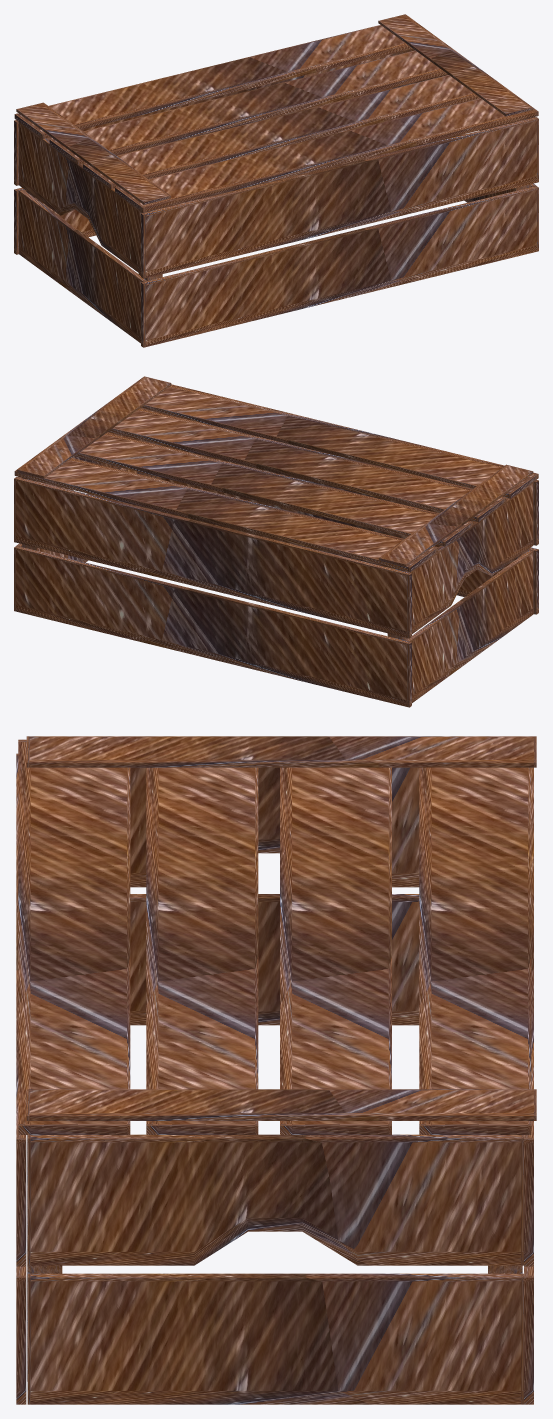
3 views of the same model, one above another, from view 1: azimuth 30°, elevation 25°; view 2: azimuth 150°, elevation 25°; view 3: azimuth 270°, elevation 25° (orthographic). The views are drawn at different scales.
Parts seen in each view (by area): view 1: Cube.022; view 2: Cube.022; view 3: Cube.022.
Boxes of the visible parts, box(x1,y1,x2,y2) form: Cube.022: box(14, 14, 538, 347); Cube.022: box(14, 376, 538, 707); Cube.022: box(16, 736, 536, 1404).
Bounding box in the file's own units: 1.59 × 0.5472 × 0.9037.
Materials: 1 (1 with a texture image).
